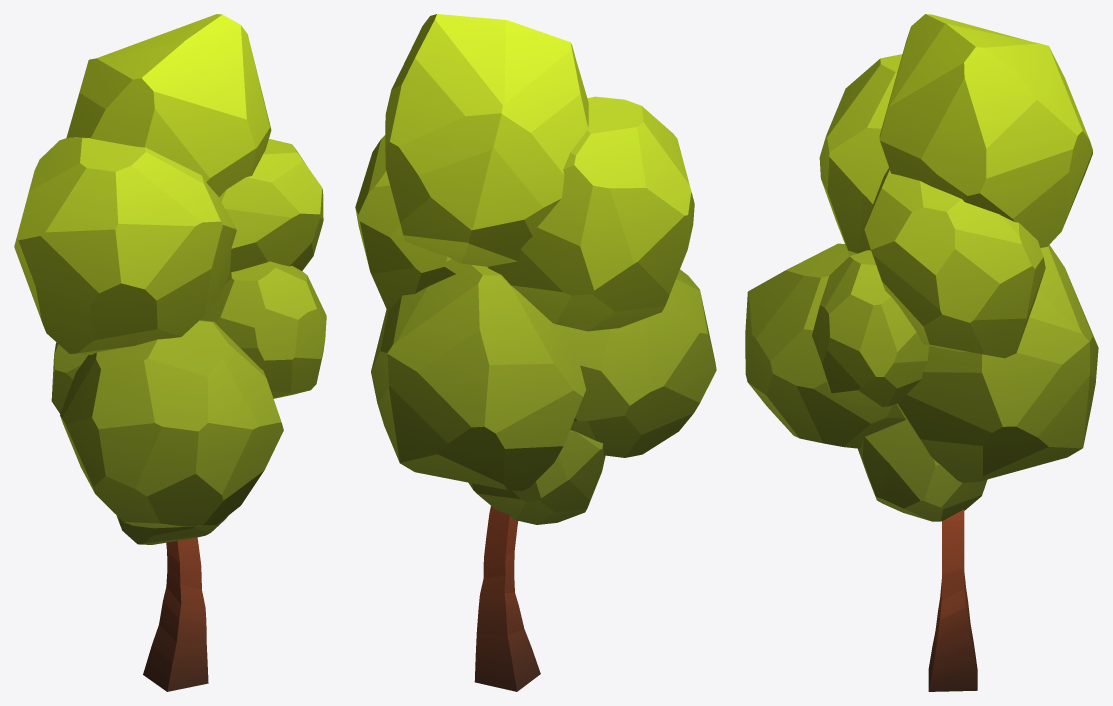
3 renders of one model, left to right at view 1: azimuth 30°, elevation 25°; view 2: azimuth 150°, elevation 25°; view 3: azimuth 270°, elevation 25°, orthographic. The views are drawn at different scales.
Parts seen in each view (by area): view 1: 6.001; view 2: 6.001; view 3: 6.001.
Part boxes in pixels (x1,y1,x2,y2): 6.001: (14, 14, 326, 691); 6.001: (355, 14, 716, 691); 6.001: (745, 14, 1098, 691).
Size of the model in its own units: 2.79 by 5.57 by 2.69.
1 material, 1 textured.
